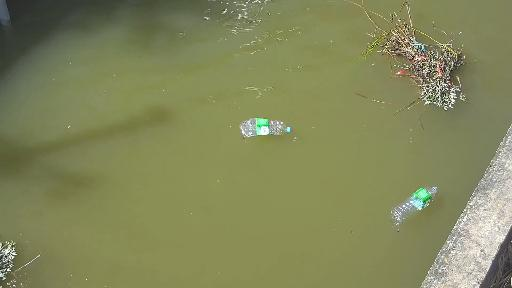plastic: (381, 178, 451, 220), (242, 118, 301, 135)
twig: (342, 0, 468, 128), (0, 230, 49, 282)
